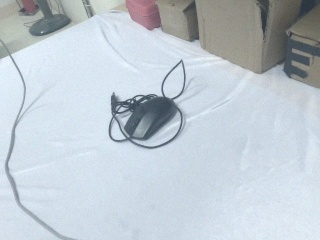box: (194, 1, 315, 75), (282, 1, 320, 92), (158, 1, 199, 43)
mouse: (123, 93, 179, 141)
